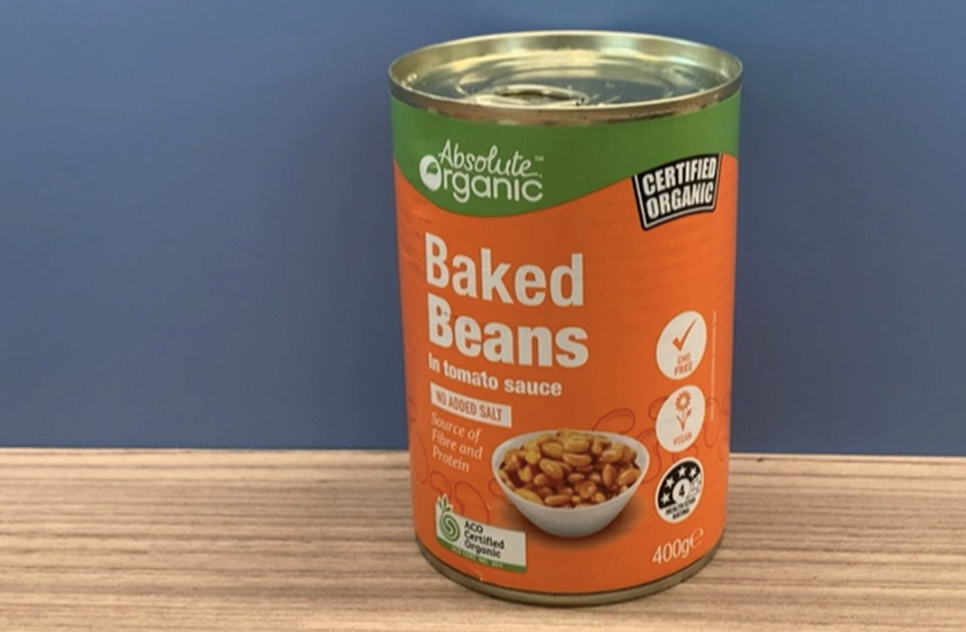Baked beans_450g: (412, 123, 704, 567)
